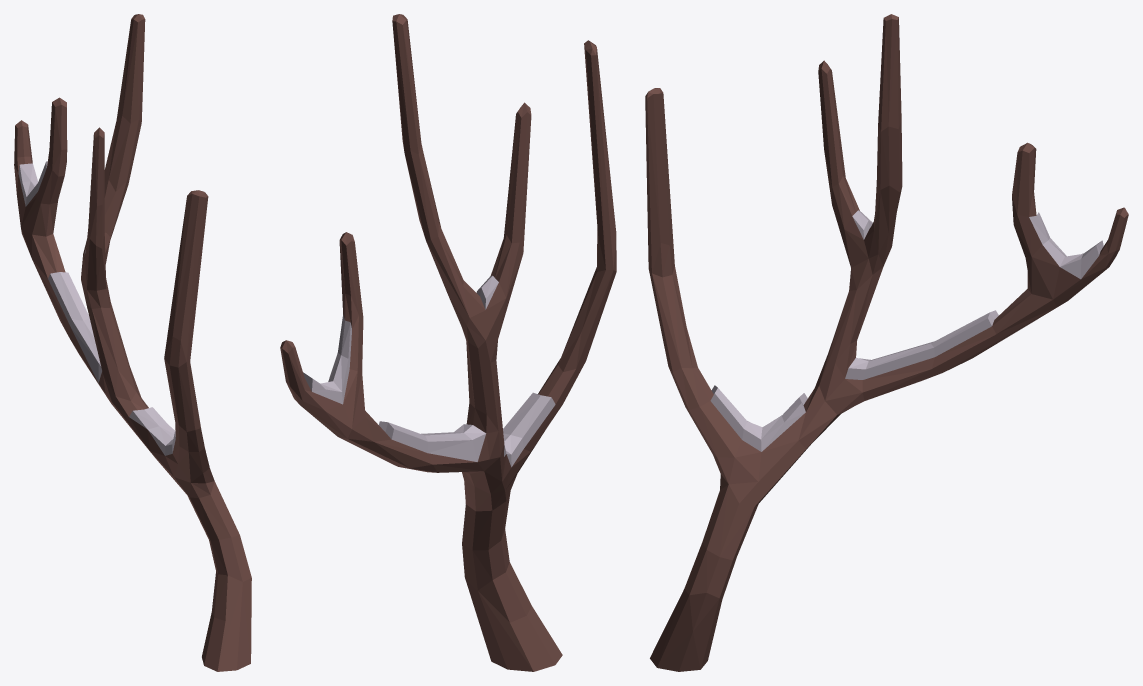
The model's file is Willow_Dead_Snow_1.lod1.glb.
3 views of the same model, side by side, from view 1: azimuth 30°, elevation 25°; view 2: azimuth 150°, elevation 25°; view 3: azimuth 270°, elevation 25° (orthographic). The views are drawn at different scales.
Parts seen in each view (by area): view 1: Willow_Dead_Snow_1; view 2: Willow_Dead_Snow_1; view 3: Willow_Dead_Snow_1.
Part boxes in pixels (x1,y1,x2,y2): Willow_Dead_Snow_1: (14, 14, 251, 671); Willow_Dead_Snow_1: (280, 14, 616, 671); Willow_Dead_Snow_1: (645, 14, 1128, 671).
Bounding box in the file's own units: 0.4977 × 2.69 × 1.82.
